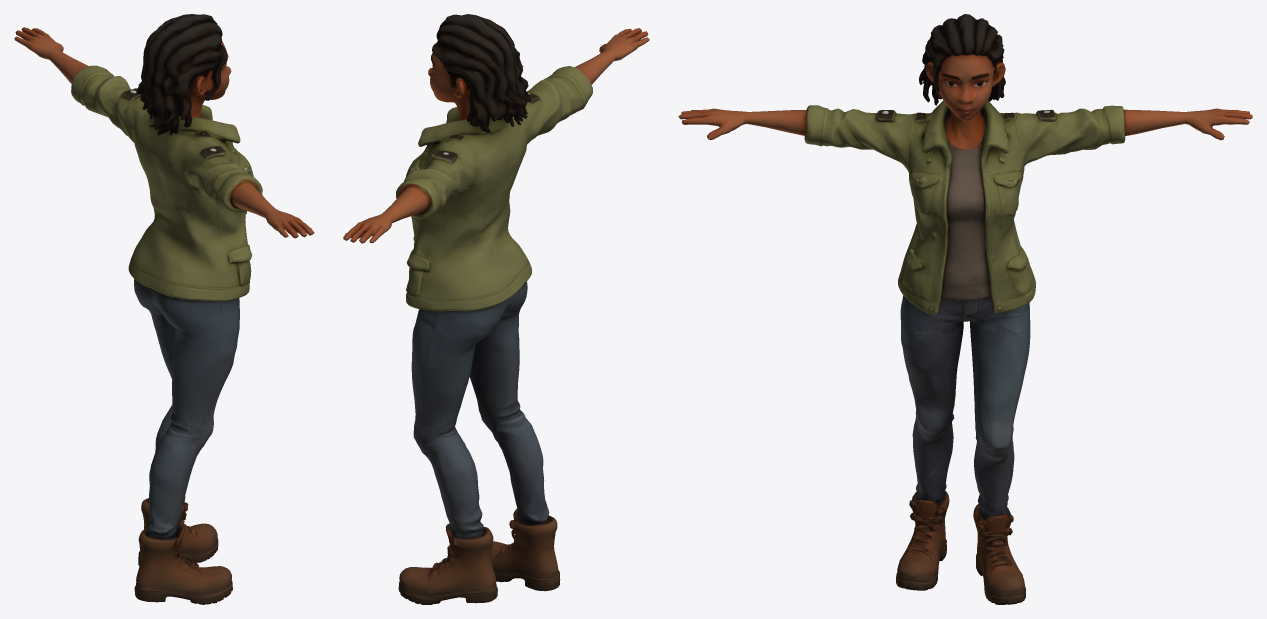
File: survivor_maya_hd.glb
3 renders of one model, left to right at view 1: azimuth 30°, elevation 25°; view 2: azimuth 150°, elevation 25°; view 3: azimuth 270°, elevation 25°, orthographic. The views are drawn at different scales.
Parts seen in each view (by area): view 1: node_cbafaac2-284f-40d1-a2a1-ae2f6bc2e8e4; view 2: node_cbafaac2-284f-40d1-a2a1-ae2f6bc2e8e4; view 3: node_cbafaac2-284f-40d1-a2a1-ae2f6bc2e8e4.
Boxes of the visible parts, left/top/right/bottom form: node_cbafaac2-284f-40d1-a2a1-ae2f6bc2e8e4: left=14, top=14, right=314, bottom=604; node_cbafaac2-284f-40d1-a2a1-ae2f6bc2e8e4: left=343, top=14, right=649, bottom=604; node_cbafaac2-284f-40d1-a2a1-ae2f6bc2e8e4: left=678, top=14, right=1252, bottom=604.
Bounding box in the file's own units: 0.2276 × 1 × 0.9123.
1 material, 1 textured.
